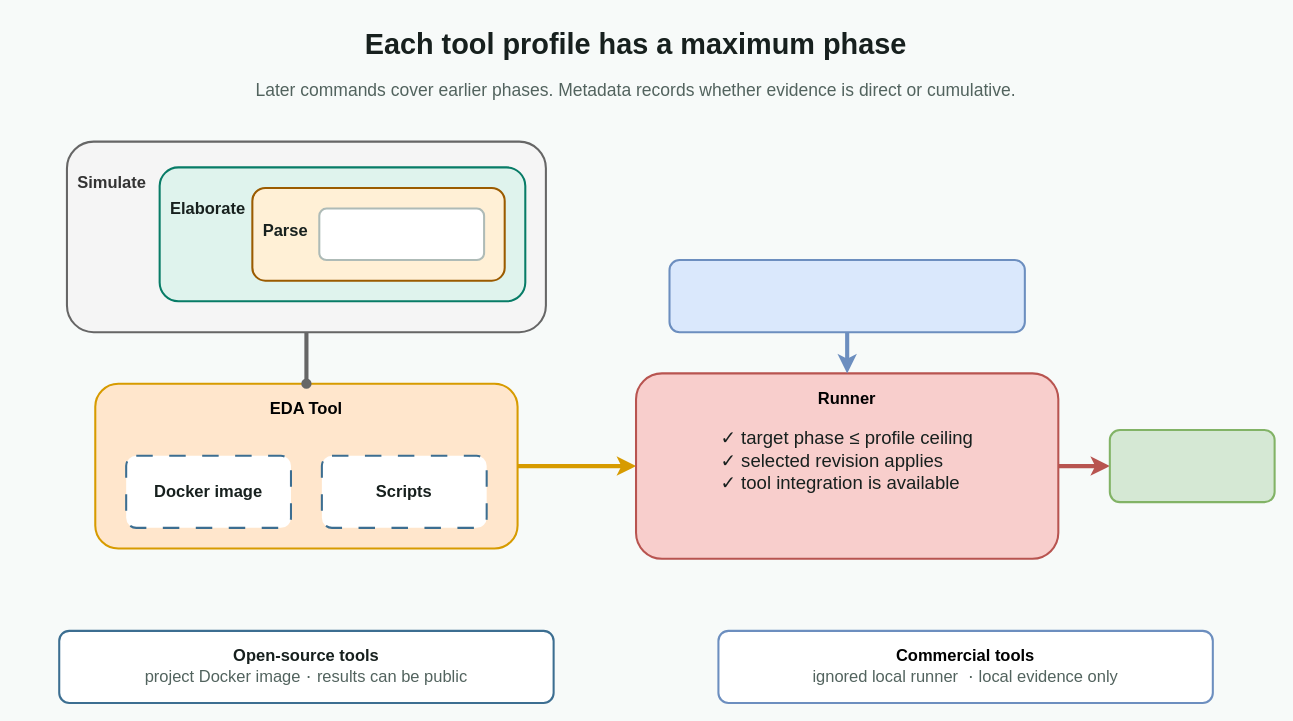
Image size: 1293x721. Some labels were removed from this diagram. Here are the shapes that lost their labels. From the top down, the centre of each, then its label:
At point 401,234: "Preprocess".
At point 846,296: "Case target phase · source code · oracle".
At point 1191,465: "Campaign".
